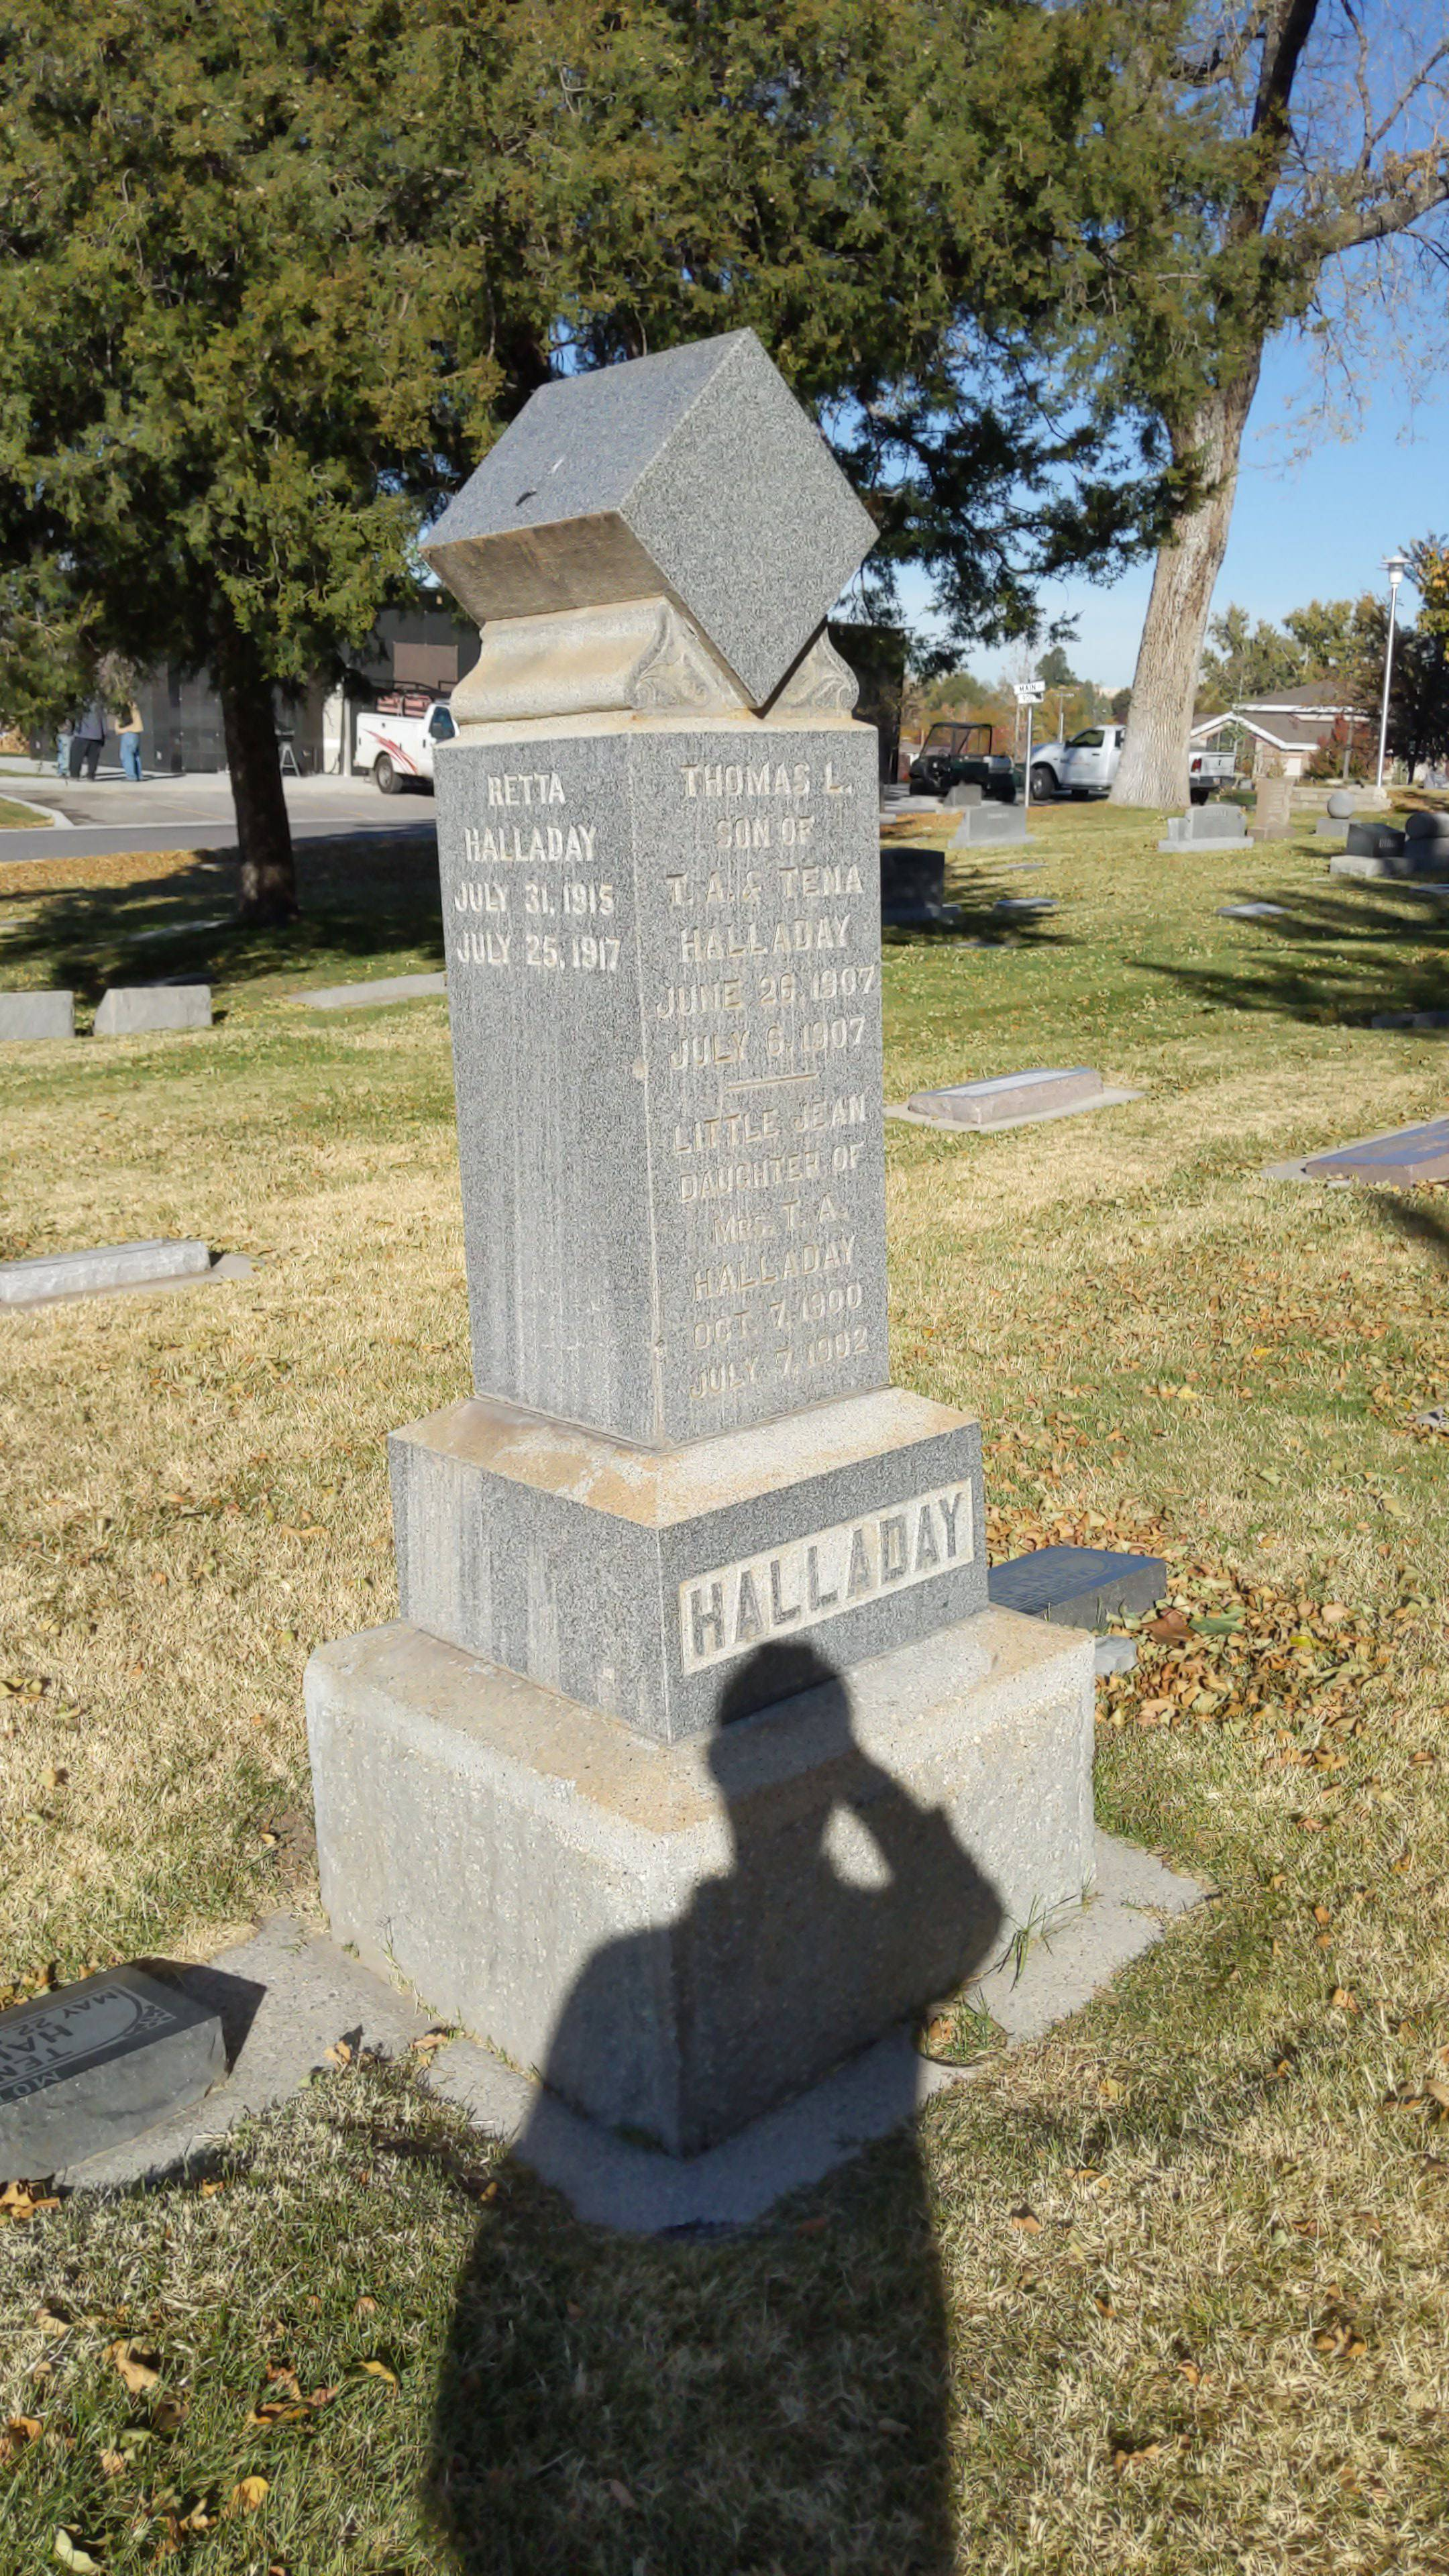obelisk: (412, 329, 985, 1732)
